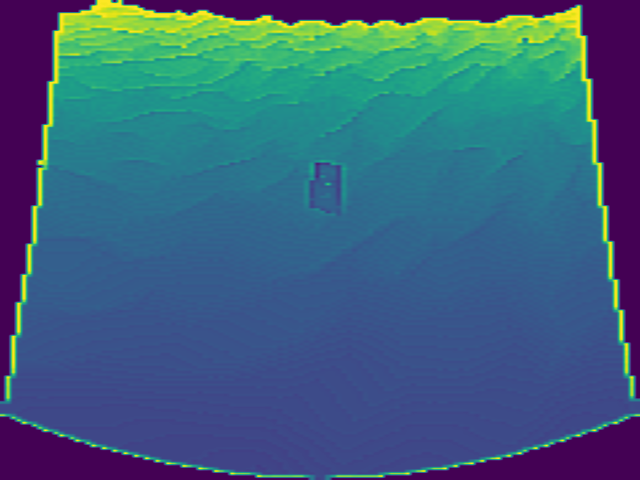car_0198: (307, 160, 344, 215)
